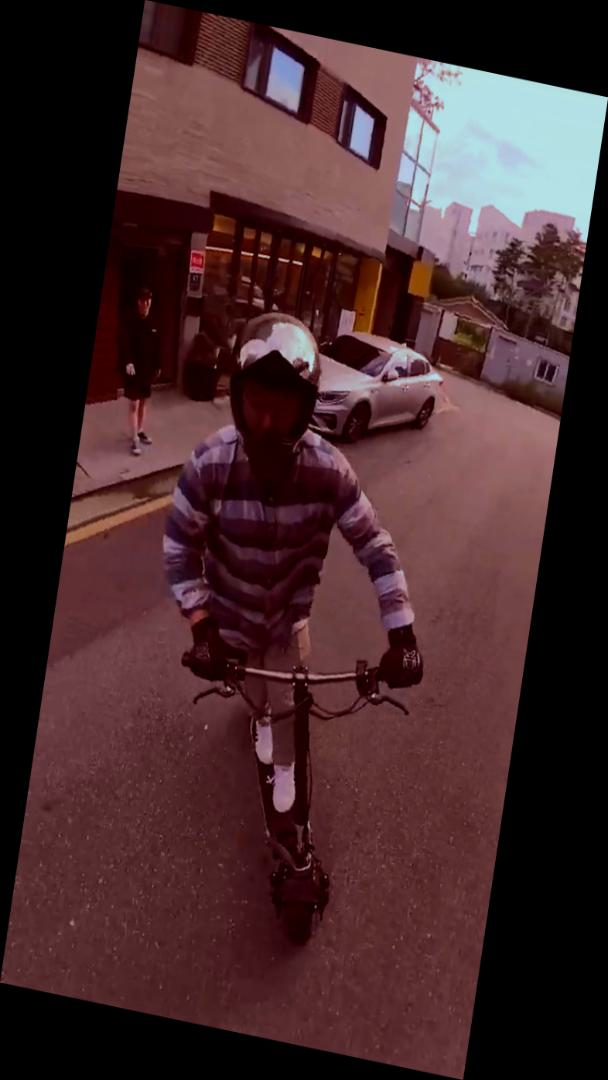helmet: (103, 293, 472, 968)
